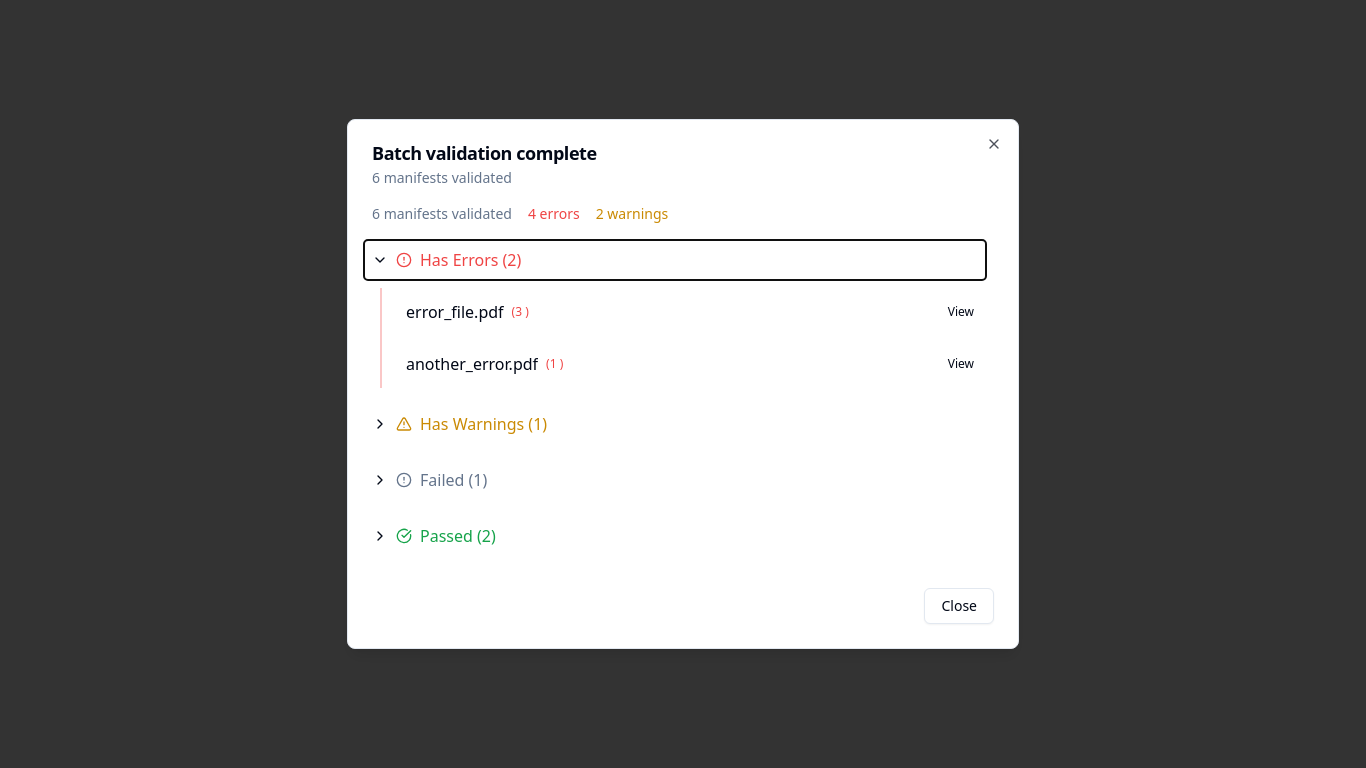
Test case: BatchValidationResultsModal › expands passed section when clicked
Expected: the text "passed_file.pdf" is not shown
Click the button "Passed (2)".
click(458, 536)  # box [364,516,986,556]
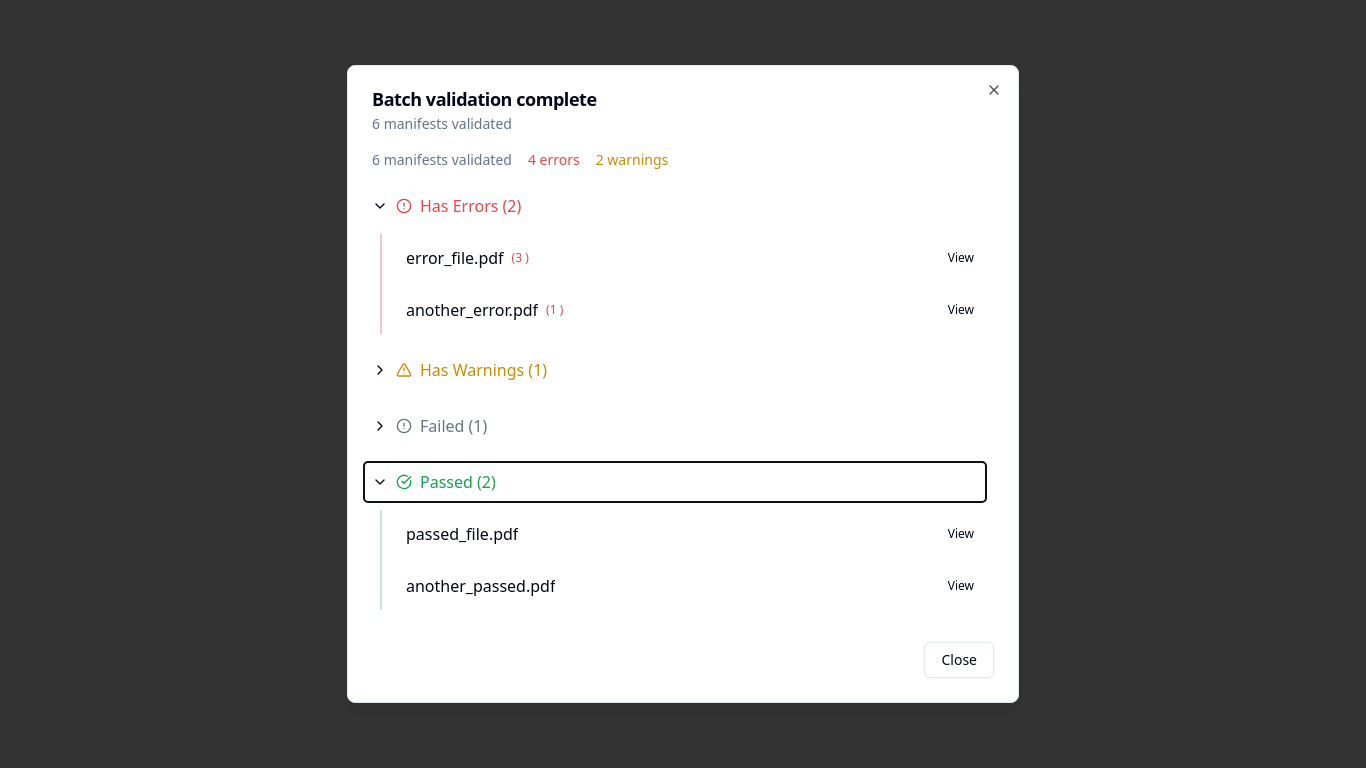
Expected: the text "passed_file.pdf" is shown, [406,522,518,546]
Expected: the text "another_passed.pdf" is shown, [406,574,555,598]
